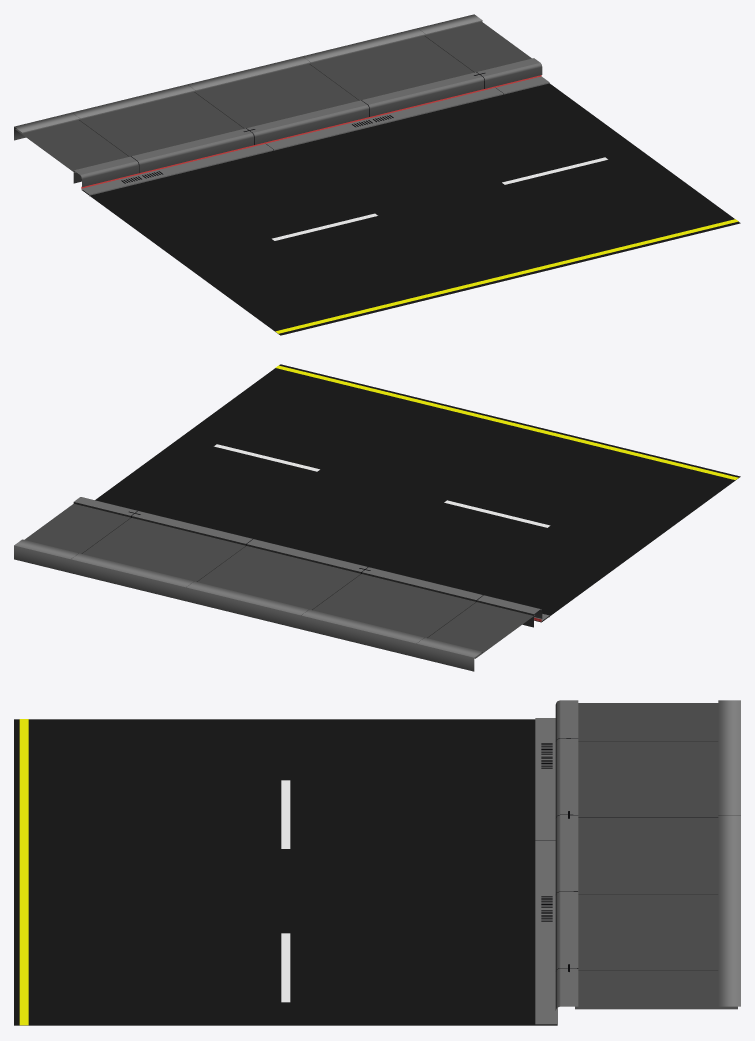
3 views of the same model, one above another, from view 1: azimuth 30°, elevation 25°; view 2: azimuth 150°, elevation 25°; view 3: azimuth 270°, elevation 25° (orthographic). The views are drawn at different scales.
Visible parts, largest first — view 1: W_R_001_8x8_B_L1; view 2: W_R_001_8x8_B_L1; view 3: W_R_001_8x8_B_L1.
Part boxes in pixels (x1,y1,x2,y2): W_R_001_8x8_B_L1: [14, 14, 740, 335]; W_R_001_8x8_B_L1: [14, 364, 740, 671]; W_R_001_8x8_B_L1: [14, 700, 740, 1025].
Size of the model in its own units: 8 by 0.2466 by 8.02.
